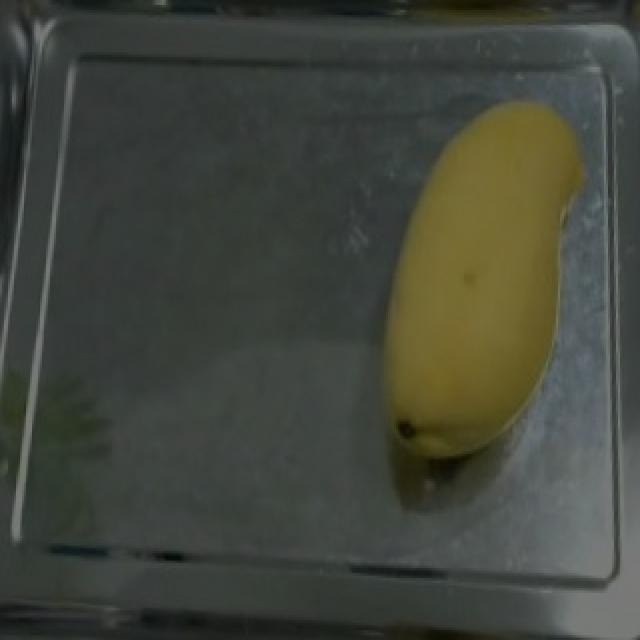fruit: (366, 84, 584, 477)
